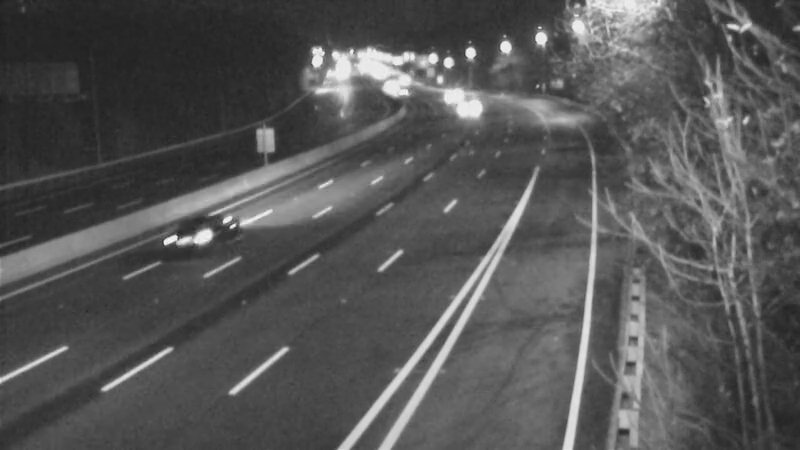vehicle: (150, 201, 230, 281), (379, 70, 429, 120), (421, 71, 471, 121), (440, 87, 490, 137)
